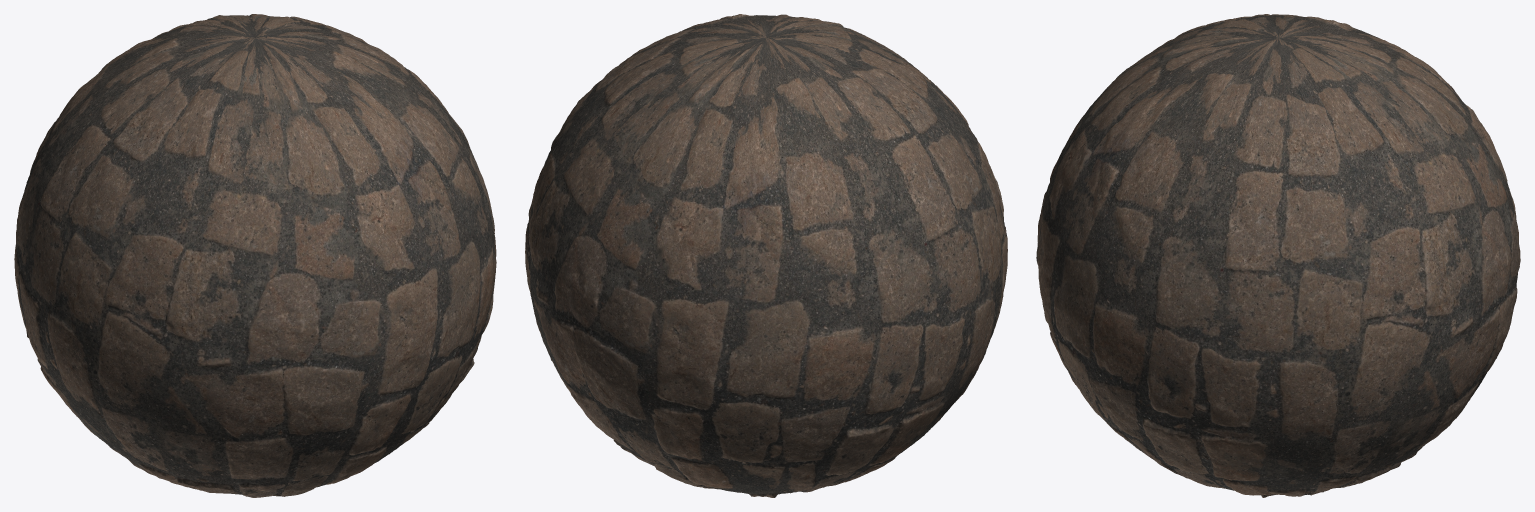
The model's file is cobblestone_embedded_asphalt_1k.gltf.
3 views of the same model, side by side, from view 1: azimuth 30°, elevation 25°; view 2: azimuth 150°, elevation 25°; view 3: azimuth 270°, elevation 25° (orthographic).
Parts seen in each view (by area): view 1: sphere_gltf; view 2: sphere_gltf; view 3: sphere_gltf.
Part boxes in pixels (left/top/right/bottom): sphere_gltf: left=14, top=14, right=496, bottom=497; sphere_gltf: left=525, top=14, right=1007, bottom=497; sphere_gltf: left=1036, top=14, right=1520, bottom=497.
Bounding box in the file's own units: 1.9 × 1.91 × 1.9.
1 material, 1 textured.
